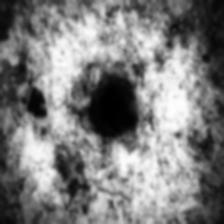Potentially Malignant Skin Tumors: (75, 70, 150, 149)
